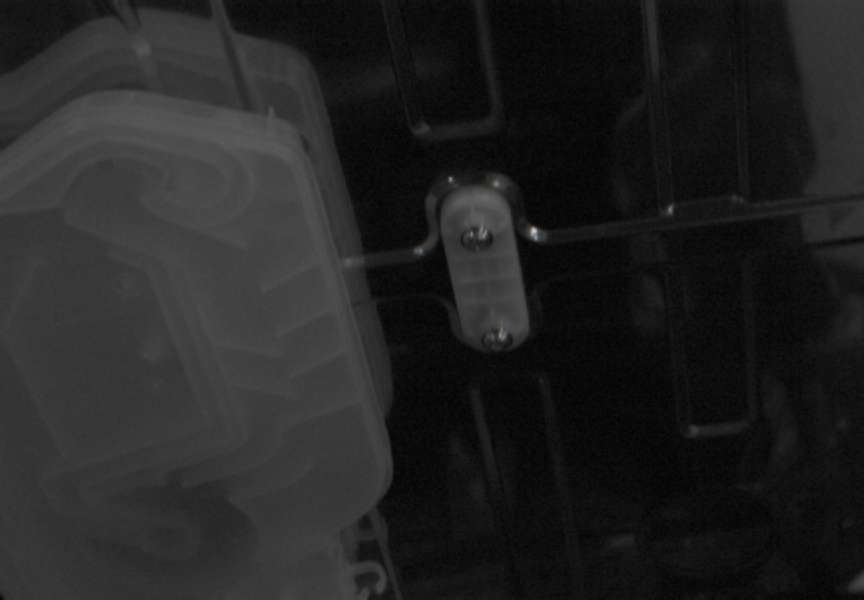screw: (461, 226, 494, 252), (481, 326, 513, 352)
